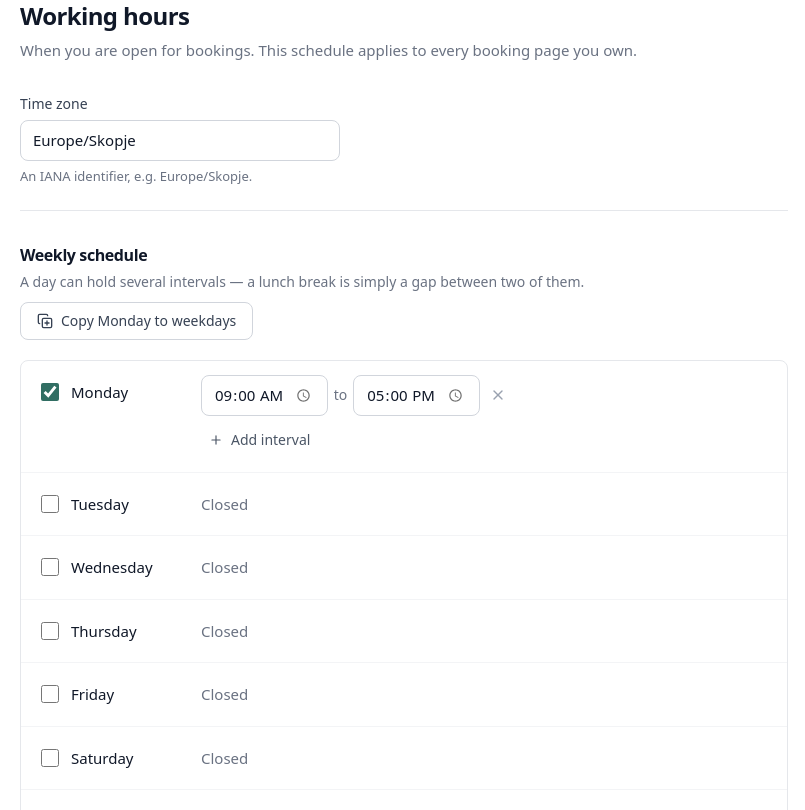
Test: WorkingHoursPage — copy Monday to weekdays › applies Monday’s hours to Tuesday through Friday
Step 1. Click the button "Copy Monday to weekdays" → x=137, y=321, box [20,302,253,340]
(page scrolled)
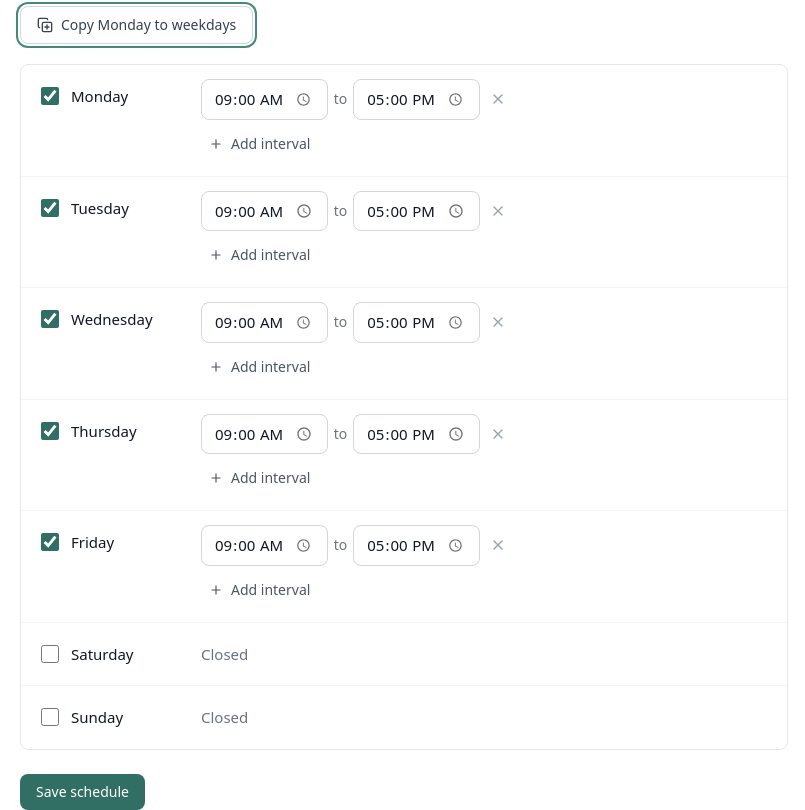
Expected: the checkbox labelled "Tuesday" is checked, [41,199,59,217]
Expected: the checkbox labelled "Wednesday" is checked, [41,310,59,328]
Expected: the checkbox labelled "Thursday" is checked, [41,422,59,440]
